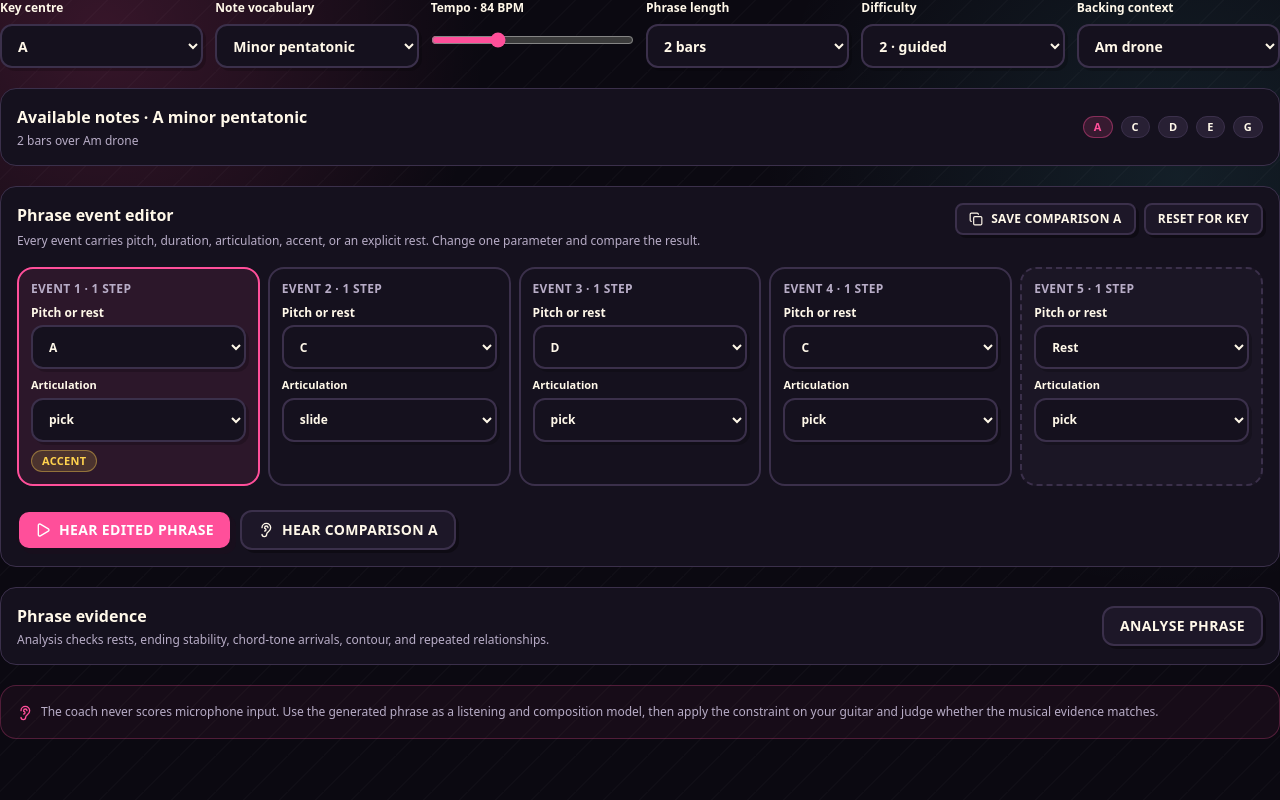
Test case: ImprovisationCoach › edits phrase events without saving transient tool state
Select "Rest" in the 1st dropdown labelled "Pitch or rest" at [138, 347], box [31,325,246,369]
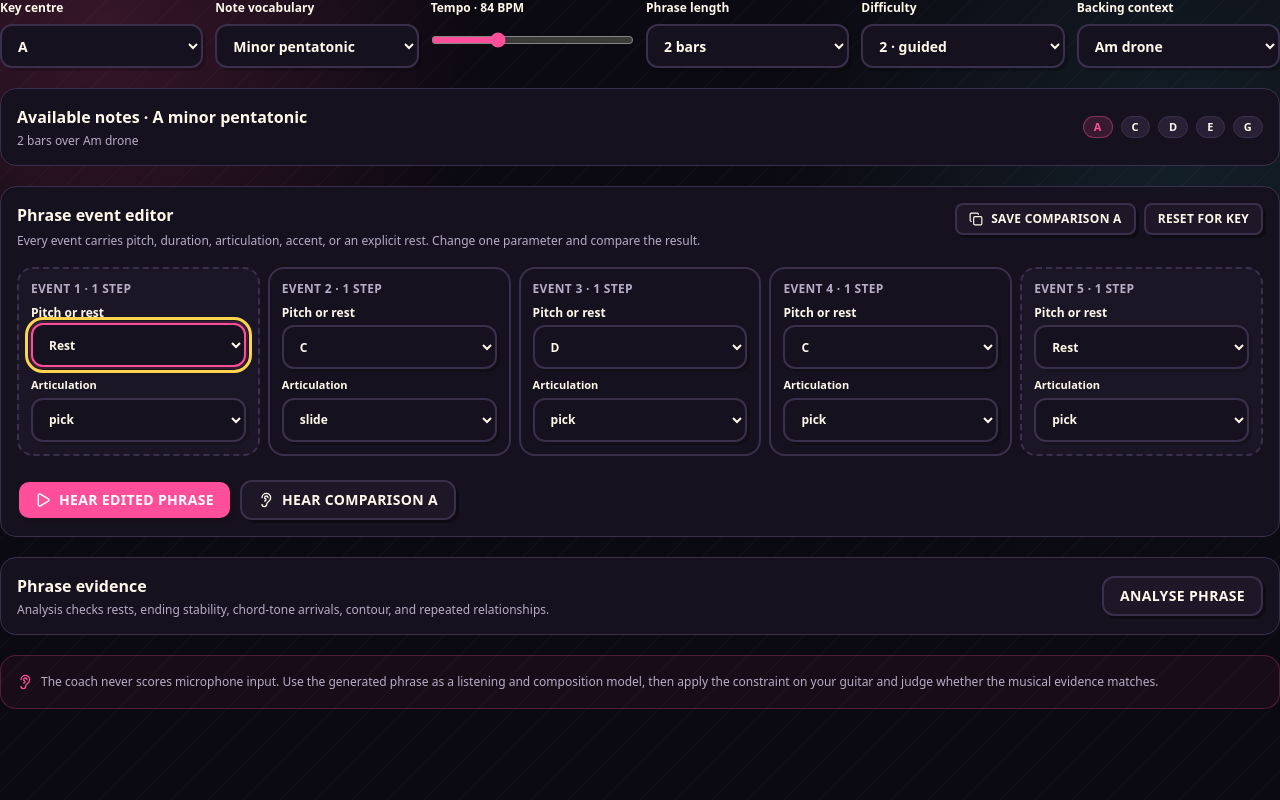
Click the button "Analyse phrase" at [1182, 596], box [1102,576,1263,616]
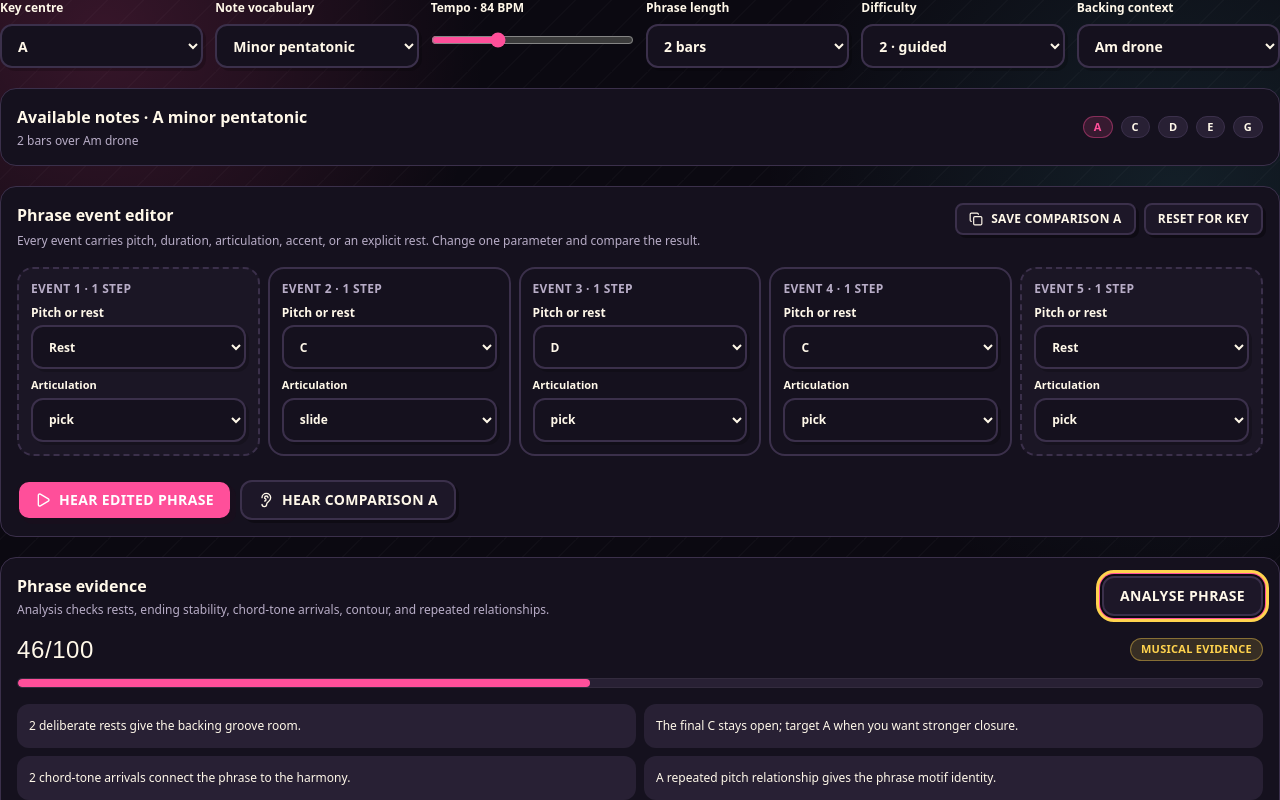
Expected: the list item "deliberate rests?" is shown, [29,716,301,734]
